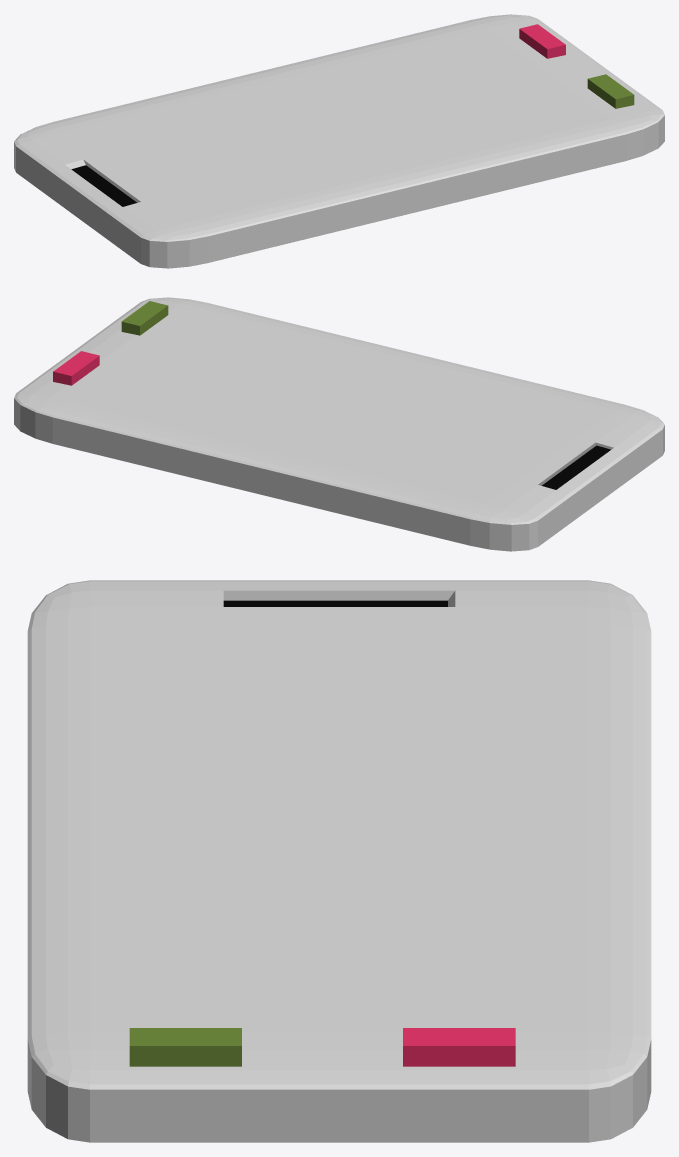
Rendered from obj_mobile_phone.fbx.
The picture shows the model from 3 angles, top to bottom: view 1: azimuth 30°, elevation 25°; view 2: azimuth 150°, elevation 25°; view 3: azimuth 270°, elevation 25°; orthographic projection. The views are drawn at different scales.
Parts seen in each view (by area): view 1: Phone; view 2: Phone; view 3: Phone.
Part boxes in pixels (<box>): Phone: <box>14,14,664,268</box>; Phone: <box>14,297,664,551</box>; Phone: <box>27,580,651,1142</box>.
Bounding box in the file's own units: 63.94 × 6.12 × 33.08.
